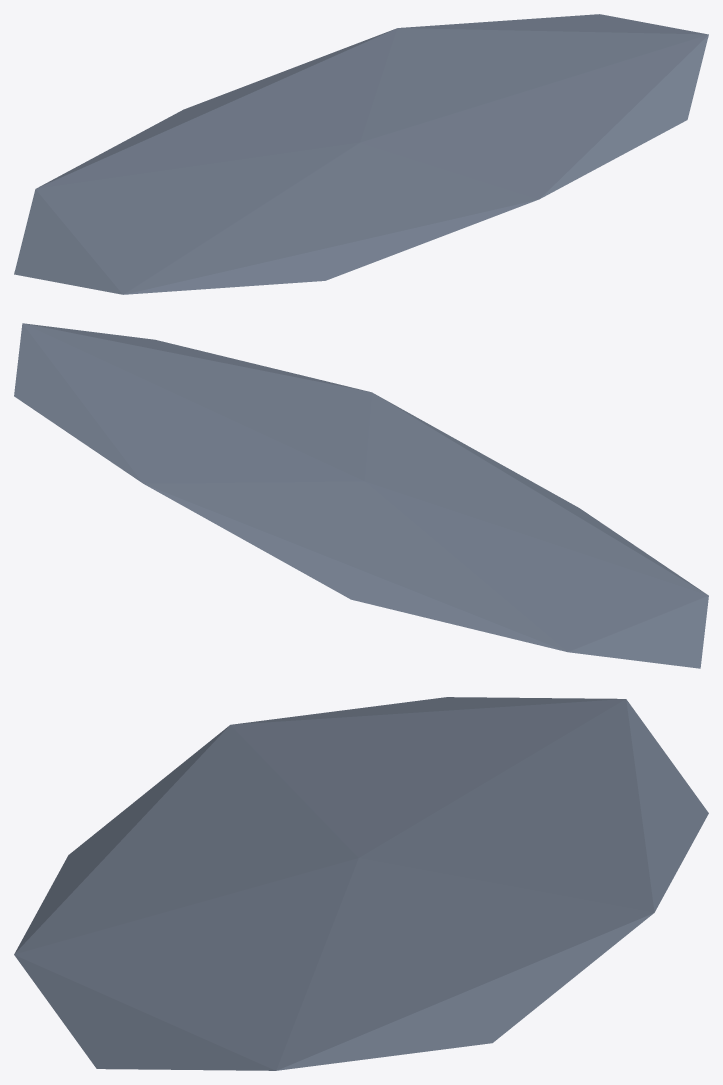
Rendered from EXTC_Paver_00.glb.
3 renders of one model, top to bottom at view 1: azimuth 30°, elevation 25°; view 2: azimuth 150°, elevation 25°; view 3: azimuth 270°, elevation 25°, orthographic. The views are drawn at different scales.
Parts seen in each view (by area): view 1: EXTC_Paver_00; view 2: EXTC_Paver_00; view 3: EXTC_Paver_00.
Part boxes in pixels (left/top/right/bottom): EXTC_Paver_00: left=14, top=14, right=708, bottom=294; EXTC_Paver_00: left=14, top=323, right=708, bottom=668; EXTC_Paver_00: left=14, top=697, right=708, bottom=1070.
Bounding box in the file's own units: 1.75 × 0.2972 × 0.8752.
